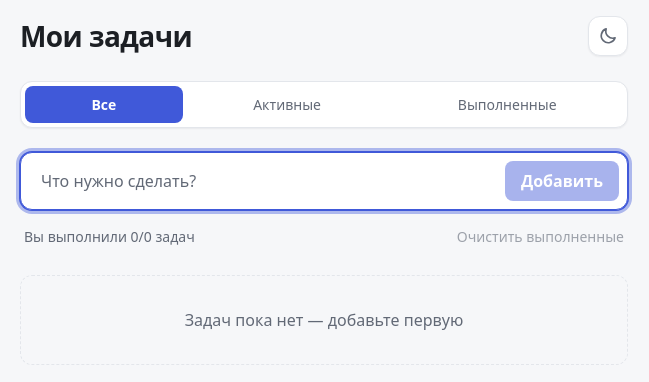
App: summary › disables "clear completed" when nothing is completed
Expected: the button "Очистить выполненные" is disabled, [451, 222, 630, 251]
Type "Задача" into the field named "Новая задача". click: point(263, 181)
box: [29, 159, 497, 203]
Then press Enter
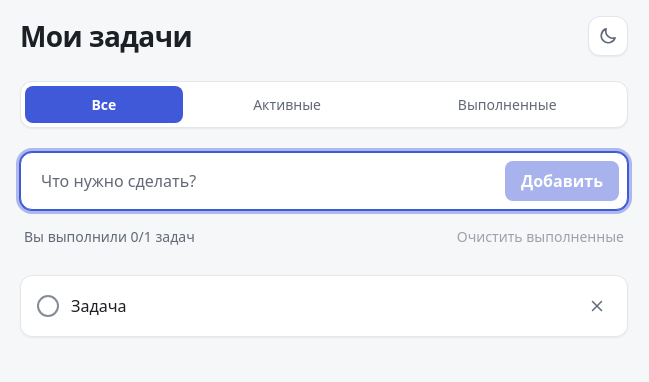
Expected: the button "Очистить выполненные" is disabled, [451, 222, 630, 251]
Click the checkbox labelled "Задача". click: point(48, 306)
box: [37, 295, 59, 317]
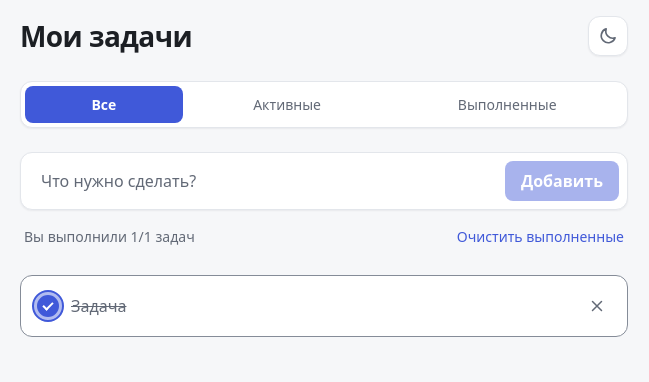
Expected: the button "Очистить выполненные" is enabled, [451, 222, 630, 251]
